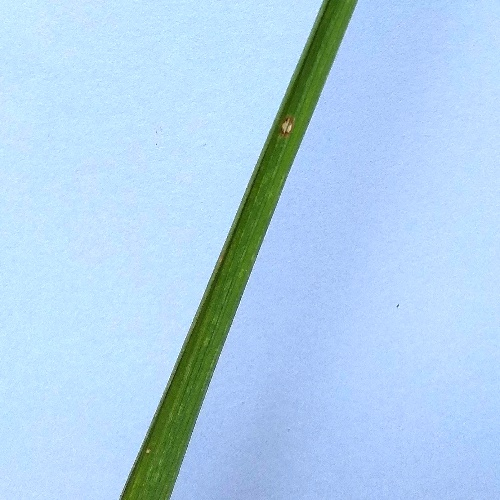Busuk Leher: (272, 113, 300, 137)
